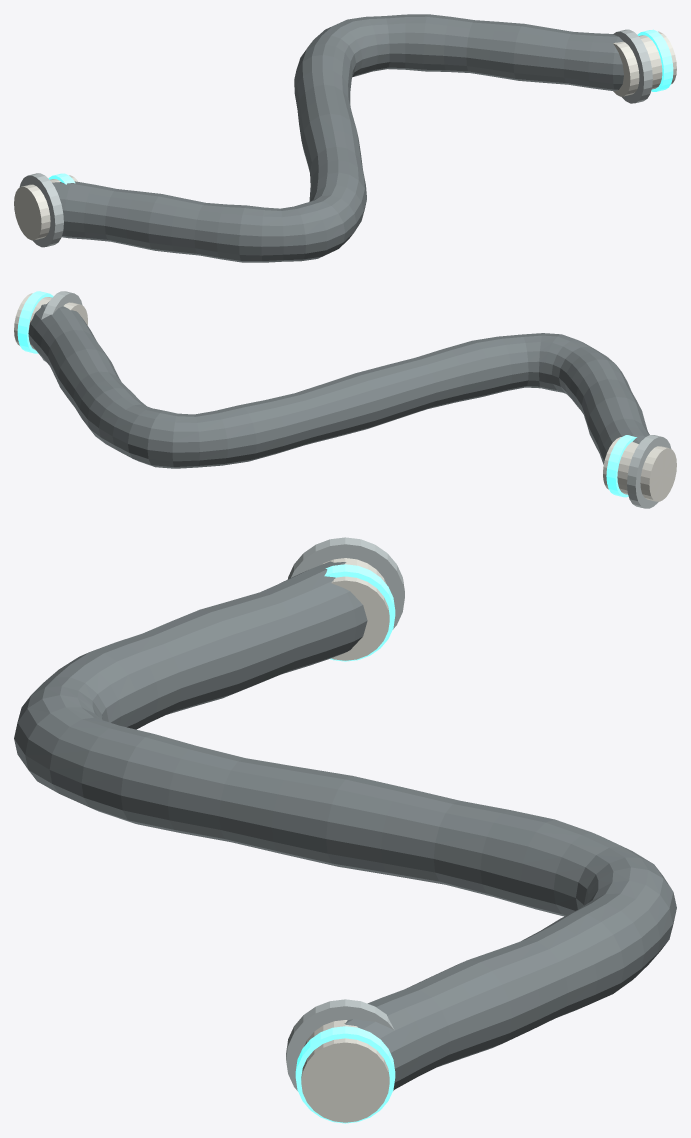
The model's file is s7-i03-hose-s-bend.glb.
The picture shows the model from 3 angles, top to bottom: view 1: azimuth 30°, elevation 25°; view 2: azimuth 150°, elevation 25°; view 3: azimuth 270°, elevation 25°; orthographic projection. The views are drawn at different scales.
Parts seen in each view (by area): view 1: 000_actual_curved_hose_swept_3d, 001_end_0_sealing_socket, 004_end_1_sealing_socket, 003_end_0_locking_collar, 006_end_1_locking_collar, 005_end_1_cyan_snap_seal; view 2: 000_actual_curved_hose_swept_3d, 001_end_0_sealing_socket, 003_end_0_locking_collar, 005_end_1_cyan_snap_seal, 002_end_0_cyan_snap_seal, 004_end_1_sealing_socket, 006_end_1_locking_collar; view 3: 000_actual_curved_hose_swept_3d, 004_end_1_sealing_socket, 003_end_0_locking_collar, 001_end_0_sealing_socket, 006_end_1_locking_collar, 005_end_1_cyan_snap_seal, 002_end_0_cyan_snap_seal.
Part boxes in pixels (box(x1,y1,x2,y2)): 000_actual_curved_hose_swept_3d: box(52, 14, 623, 262); 001_end_0_sealing_socket: box(14, 175, 78, 240); 004_end_1_sealing_socket: box(613, 31, 676, 96); 003_end_0_locking_collar: box(19, 173, 63, 247); 006_end_1_locking_collar: box(613, 29, 652, 103); 005_end_1_cyan_snap_seal: box(637, 29, 673, 91); 000_actual_curved_hose_swept_3d: box(28, 301, 649, 468); 001_end_0_sealing_socket: box(603, 437, 676, 501); 003_end_0_locking_collar: box(627, 435, 671, 508); 005_end_1_cyan_snap_seal: box(17, 291, 53, 353); 002_end_0_cyan_snap_seal: box(606, 435, 636, 497); 004_end_1_sealing_socket: box(14, 293, 87, 349); 006_end_1_locking_collar: box(41, 291, 82, 361); 000_actual_curved_hose_swept_3d: box(14, 561, 676, 1089); 004_end_1_sealing_socket: box(301, 1020, 389, 1122); 003_end_0_locking_collar: box(287, 537, 404, 629); 001_end_0_sealing_socket: box(322, 558, 389, 660); 006_end_1_locking_collar: box(286, 999, 394, 1090); 005_end_1_cyan_snap_seal: box(295, 1026, 395, 1123); 002_end_0_cyan_snap_seal: box(324, 564, 395, 661).
Size of the model in its own units: 0.928 by 0.0935 by 0.5217.
